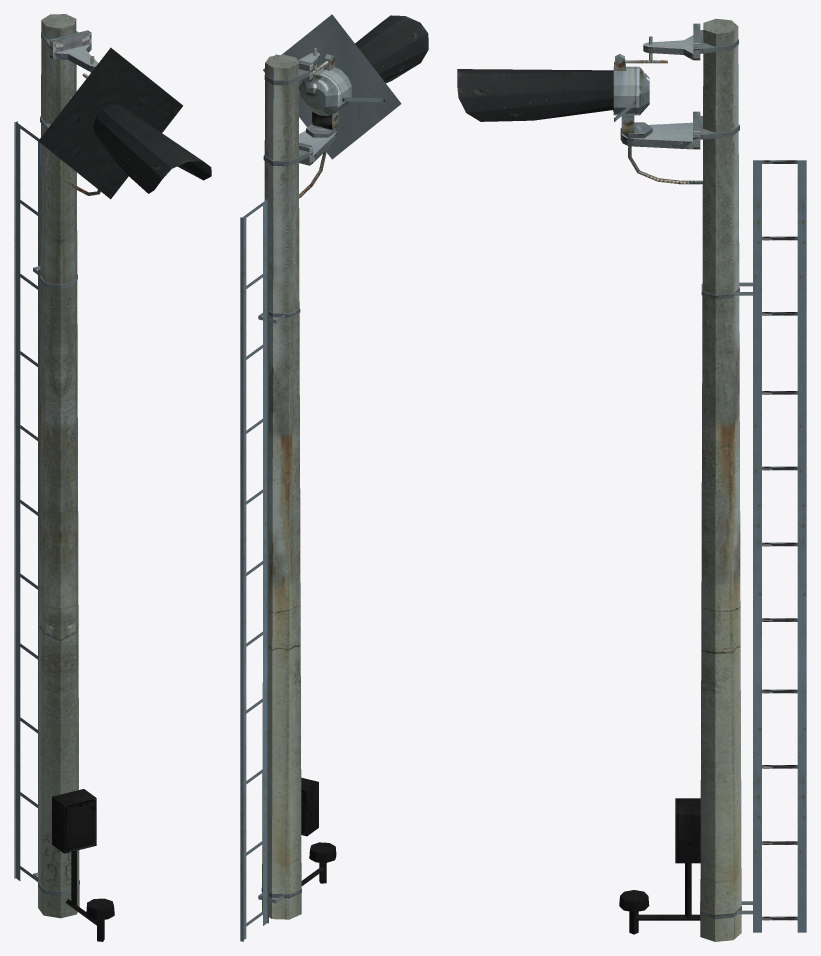
The model's file is sig_povt.gltf.
The picture shows the model from 3 angles, left to right: view 1: azimuth 30°, elevation 25°; view 2: azimuth 150°, elevation 25°; view 3: azimuth 270°, elevation 25°; orthographic projection. The views are drawn at different scales.
Bounding box in the file's own units: 1.01 × 6 × 2.07.
1 material, 1 textured.
